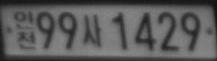1: (109, 10, 130, 49)
2: (157, 10, 180, 51)
4: (134, 11, 156, 51)
9: (181, 10, 201, 51), (57, 10, 78, 49), (36, 10, 56, 49)
사: (80, 13, 103, 47)
인천_V: (12, 10, 37, 50)
